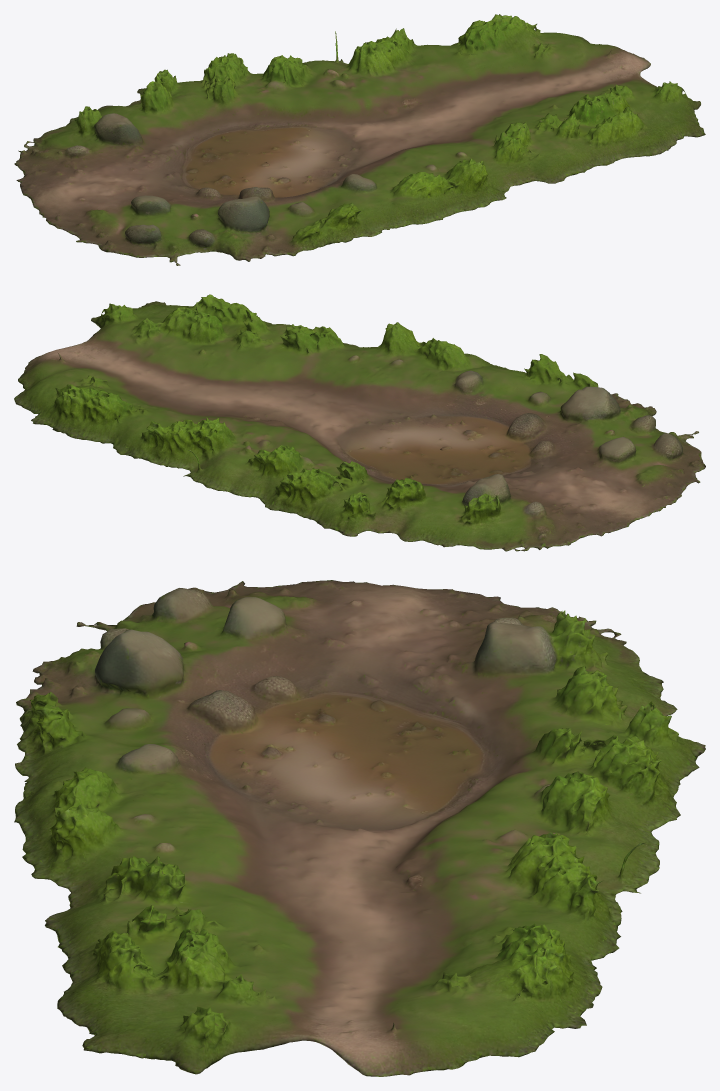
Rendered from Meshy_AI_Isolated_Island_Path_0319011106_texture.glb.
3 renders of one model, top to bottom at view 1: azimuth 30°, elevation 25°; view 2: azimuth 150°, elevation 25°; view 3: azimuth 270°, elevation 25°, orthographic. The views are drawn at different scales.
Visible parts, largest first — view 1: Mesh1.0; view 2: Mesh1.0; view 3: Mesh1.0.
Part boxes in pixels (box(x1,y1,x2,y2)): Mesh1.0: box(14, 14, 705, 265); Mesh1.0: box(14, 294, 705, 551); Mesh1.0: box(14, 580, 705, 1076).
Bounding box in the file's own units: 1.91 × 0.1093 × 1.12.
1 material, 1 textured.
